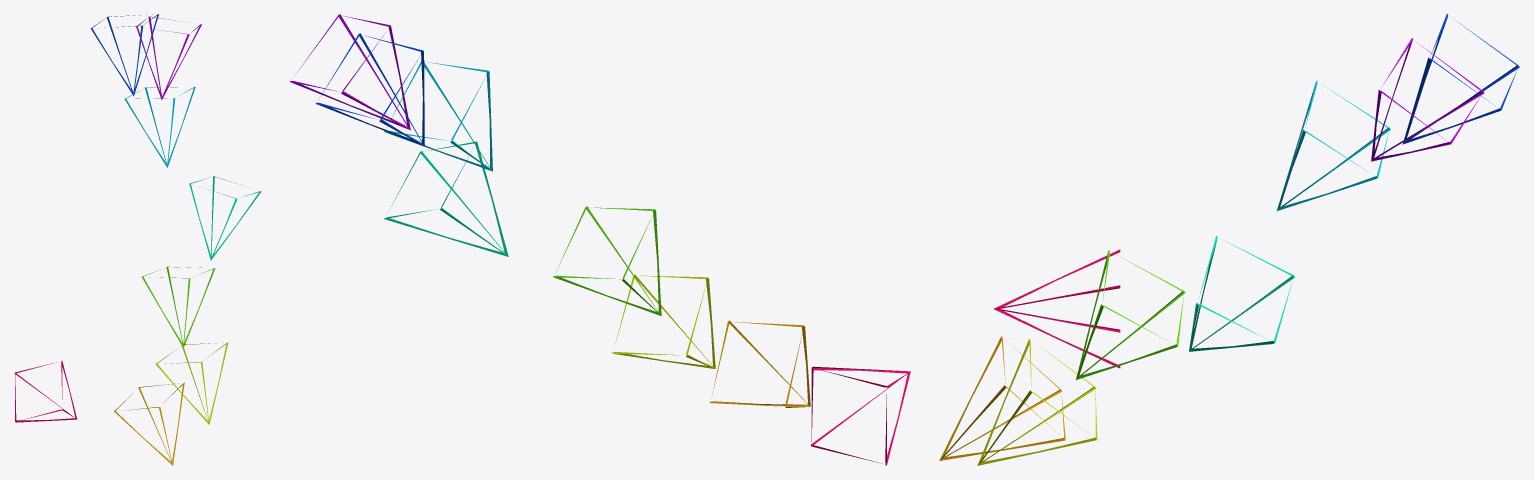
The model's file is wrist_video_70.glb.
3 renders of one model, left to right at view 1: azimuth 30°, elevation 25°; view 2: azimuth 150°, elevation 25°; view 3: azimuth 270°, elevation 25°, orthographic. The views are drawn at different scales.
Parts seen in each view (by area): view 1: world; view 2: world; view 3: world.
Boxes of the visible parts, x1,y1,x2,y2 form: world: (14,14,261,465); world: (290,14,910,465); world: (939,14,1519,465).
Bounding box in the file's own units: 0.549 × 0.6003 × 0.6087.
